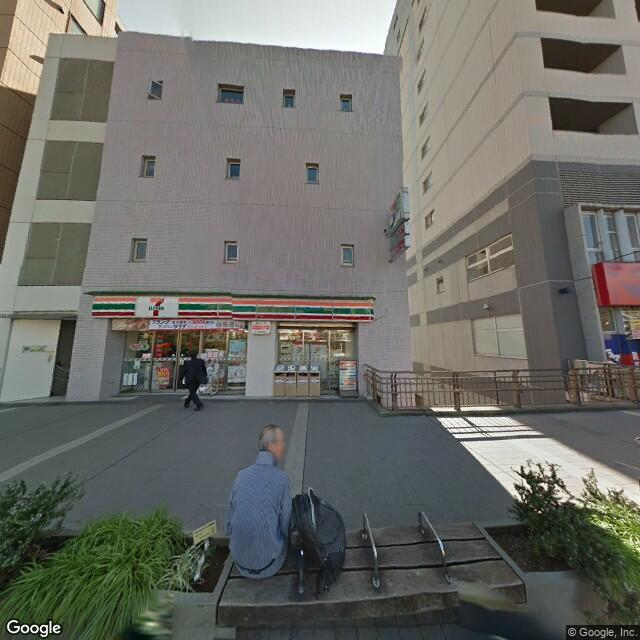7-eleven: (91, 290, 381, 322)
